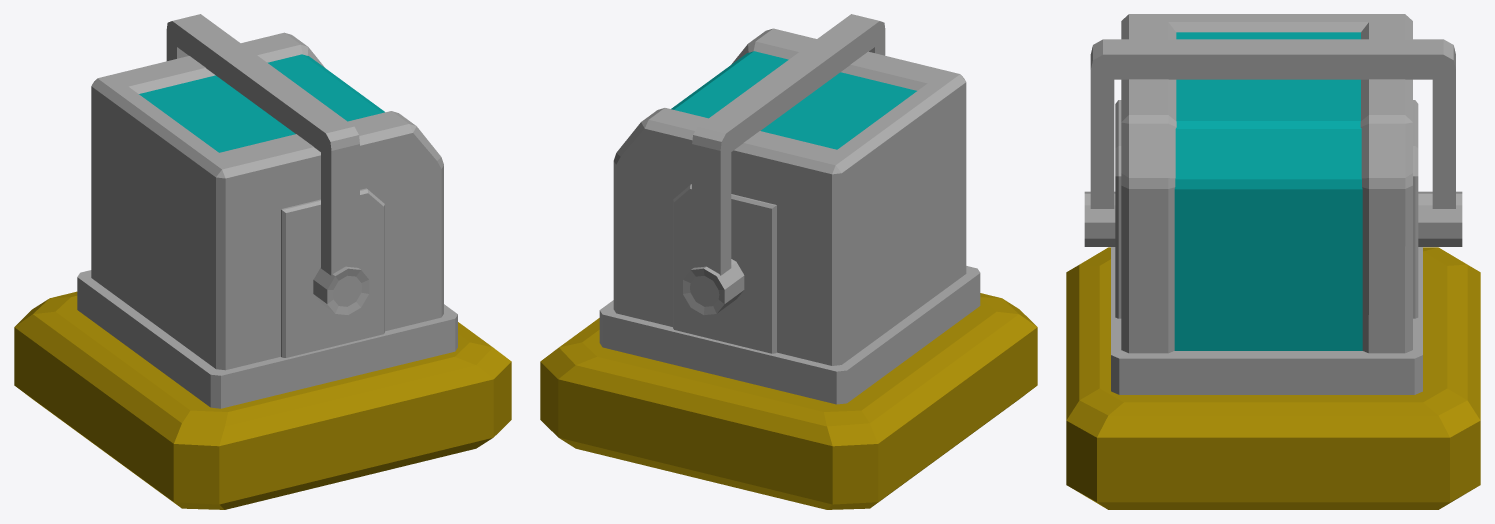
Rendered from 3D-LightMachine.fbx.
3 renders of one model, left to right at view 1: azimuth 30°, elevation 25°; view 2: azimuth 150°, elevation 25°; view 3: azimuth 270°, elevation 25°, orthographic. The views are drawn at different scales.
Visible parts, largest first — view 1: Lightmachine_Exterior1, LightmachineHandle_Exterior; view 2: Lightmachine_Exterior1, LightmachineHandle_Exterior; view 3: Lightmachine_Exterior1, LightmachineHandle_Exterior.
Part boxes in pixels (x1=…): Lightmachine_Exterior1: x1=14, y1=32, x2=511, y2=509; LightmachineHandle_Exterior: x1=166, y1=14, x2=369, y2=314; Lightmachine_Exterior1: x1=540, y1=28, x2=1037, y2=509; LightmachineHandle_Exterior: x1=683, y1=14, x2=885, y2=314; Lightmachine_Exterior1: x1=1066, y1=14, x2=1480, y2=509; LightmachineHandle_Exterior: x1=1084, y1=39, x2=1462, y2=246.
Size of the model in its own units: 345 by 338 by 331.
